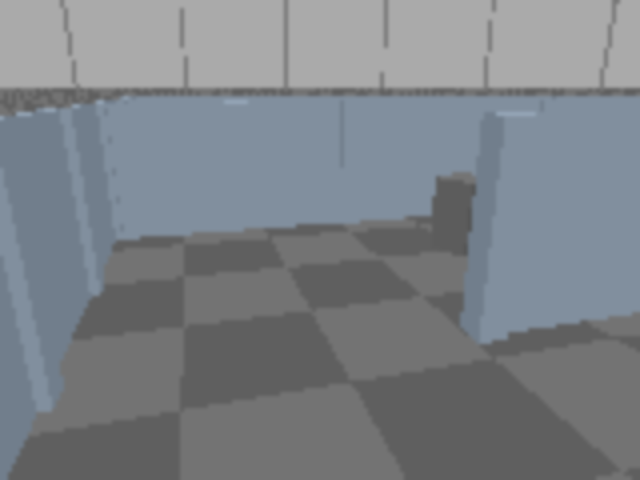obstacle: (430, 172, 500, 258)
